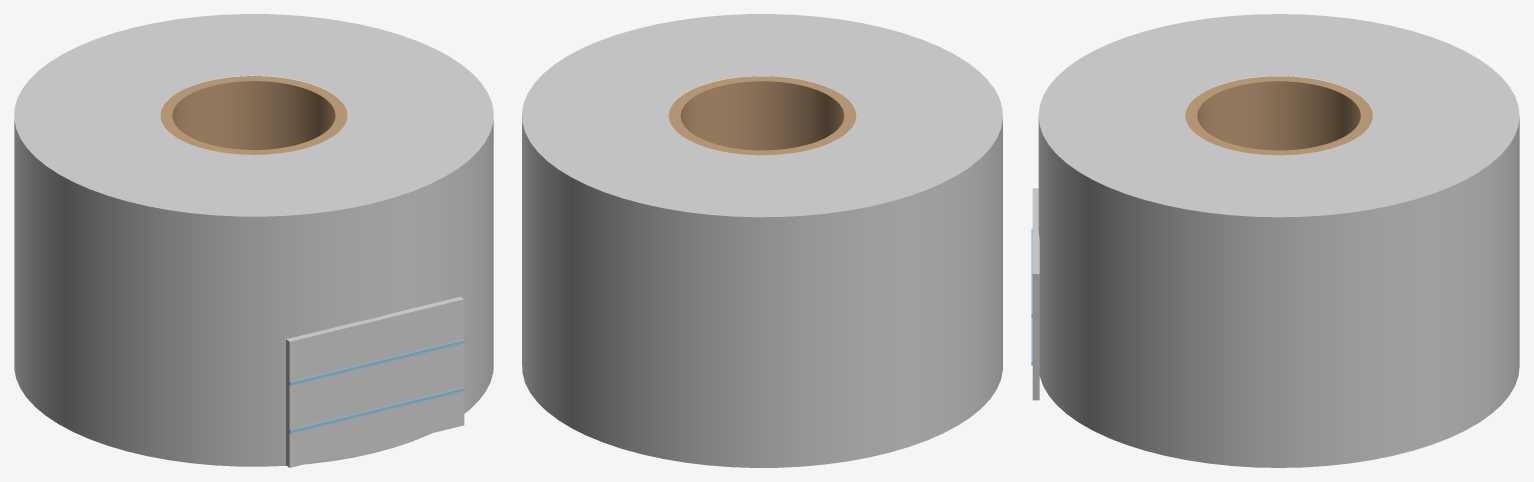
File: papel_higienico.glb
3 renders of one model, left to right at view 1: azimuth 30°, elevation 25°; view 2: azimuth 150°, elevation 25°; view 3: azimuth 270°, elevation 25°, orthographic.
Visible parts, largest first — view 1: PapelHigienico; view 2: PapelHigienico; view 3: PapelHigienico.
Part boxes in pixels (x1,y1,x2,y2): PapelHigienico: [14, 14, 493, 467]; PapelHigienico: [522, 14, 1002, 467]; PapelHigienico: [1031, 14, 1519, 467].
Bounding box in the file's own units: 2 × 1.15 × 2.03.
